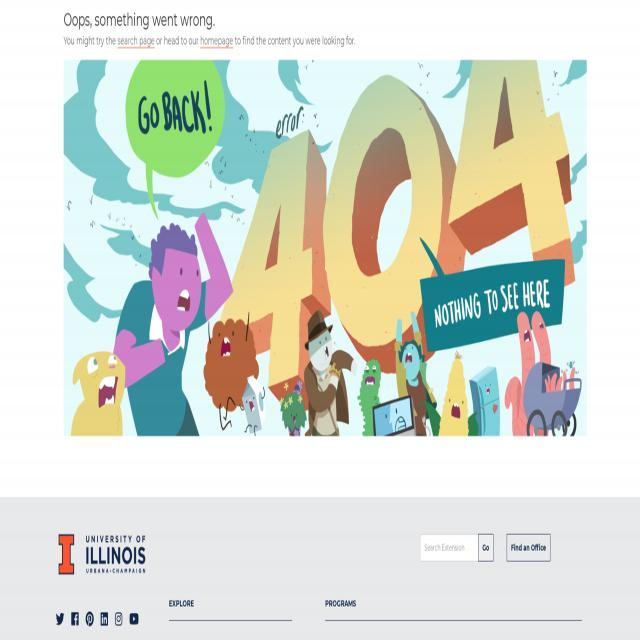button: (59, 534, 145, 574), (507, 534, 550, 562), (478, 534, 493, 562), (129, 610, 139, 628), (85, 610, 94, 628), (56, 610, 64, 628), (71, 610, 79, 628), (100, 610, 108, 628), (115, 610, 122, 628)
field: (420, 534, 478, 562)
